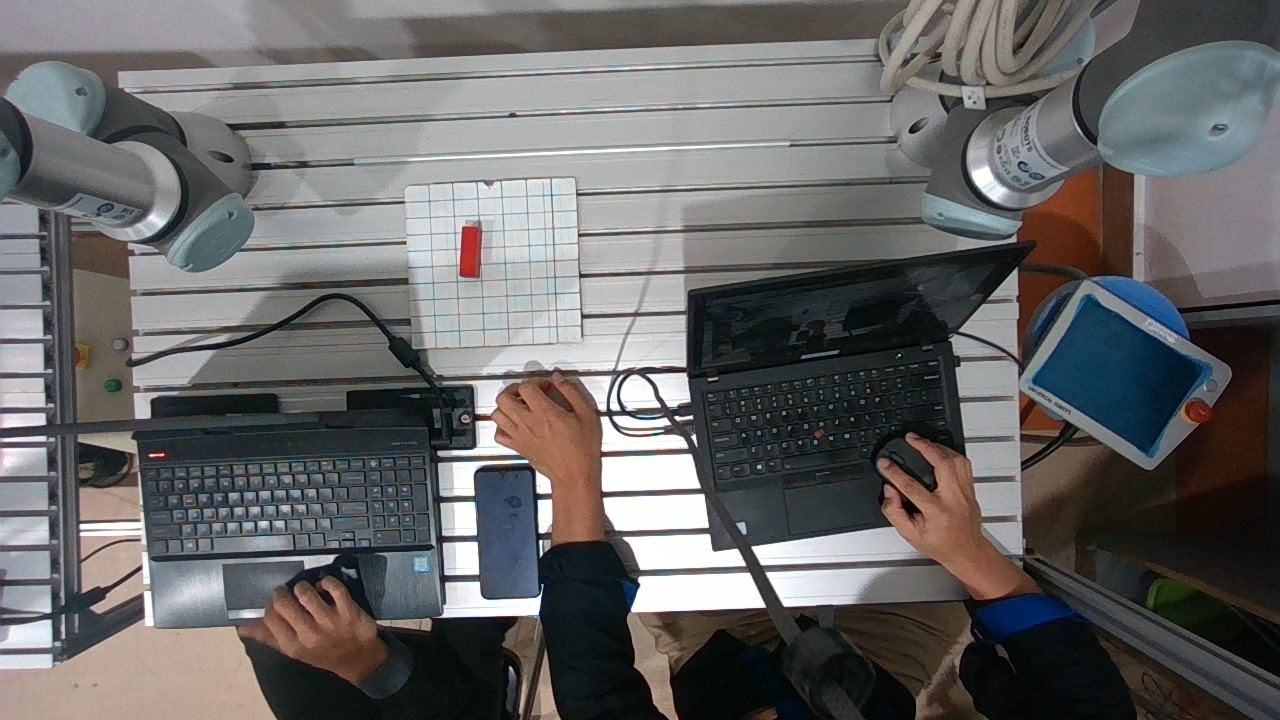box: (448, 215, 487, 284)
